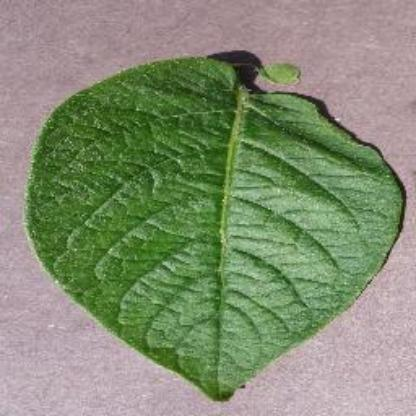Healthy-plant: (24, 47, 404, 404)
